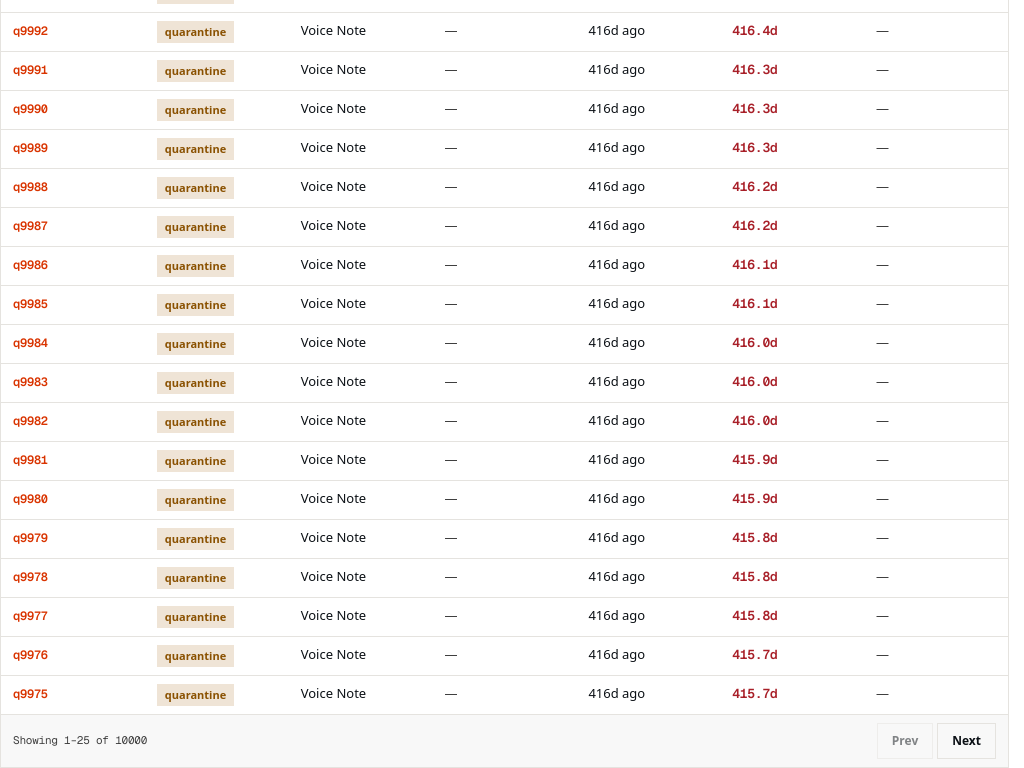
Scenario: SlaPage › paginates 10k rows at 25 per page
(page scrolled)
Expected: the text "Showing 1–25 of 10000" is shown, 13,732 -> 147,749
Click the button "Next" at point(967, 740), box 937,722 -> 996,758
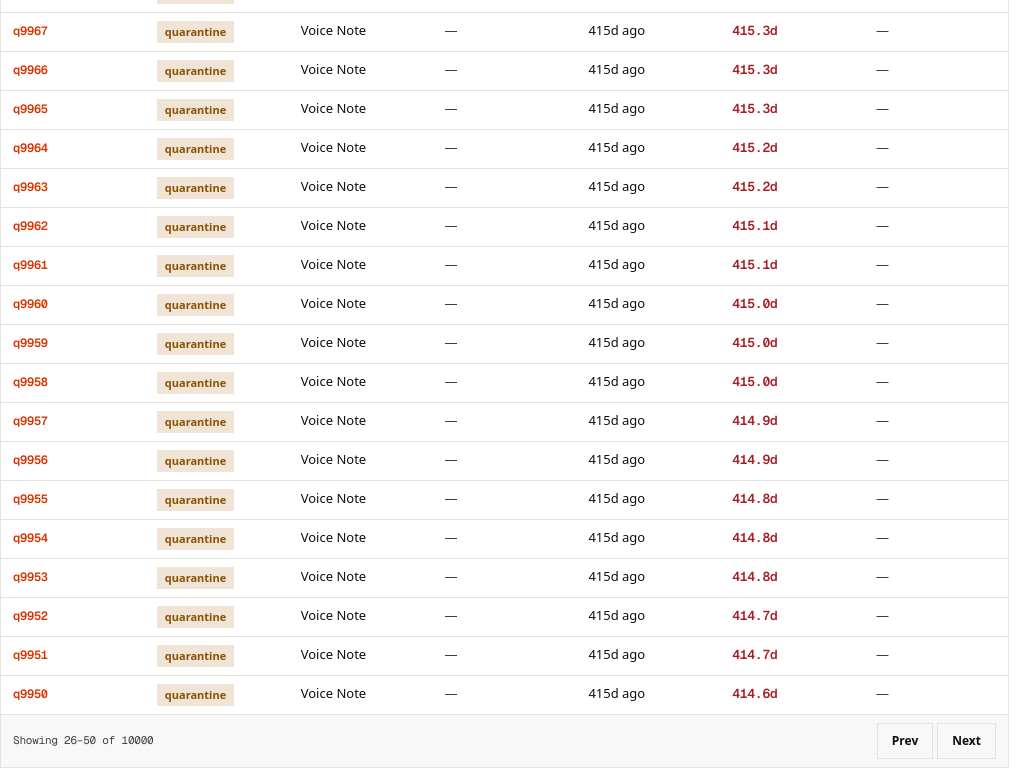
Expected: the text "Showing 26–50 of 10000" is shown, 13,732 -> 153,749
